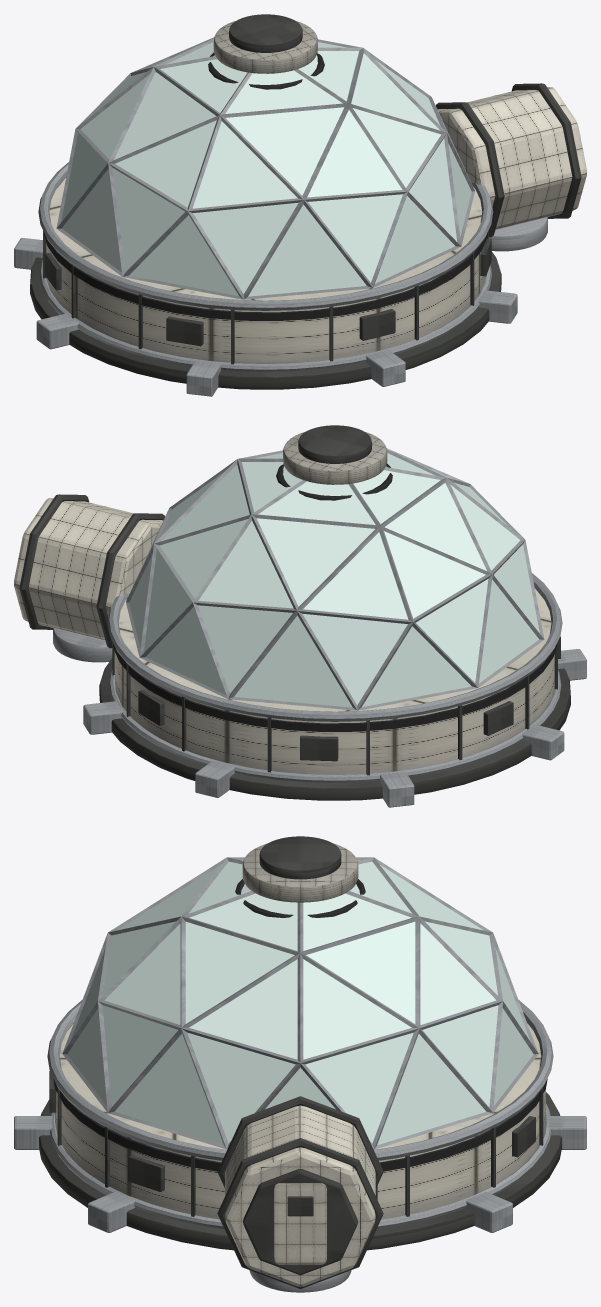
The model's file is greenhouse.glb.
3 renders of one model, top to bottom at view 1: azimuth 30°, elevation 25°; view 2: azimuth 150°, elevation 25°; view 3: azimuth 270°, elevation 25°, orthographic. The views are drawn at different scales.
Visible parts, largest first — view 1: Cylinder; view 2: Cylinder; view 3: Cylinder.
Boxes of the visible parts, bbox=[...] form: Cylinder: bbox=[14, 14, 586, 396]; Cylinder: bbox=[14, 425, 586, 807]; Cylinder: bbox=[14, 836, 586, 1292].
Size of the model in its own units: 9.82 by 4.72 by 8.4.
Materials: 8 (6 with a texture image).
